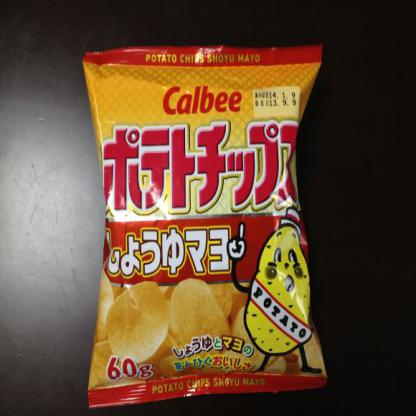potatochip: (78, 37, 336, 415)
